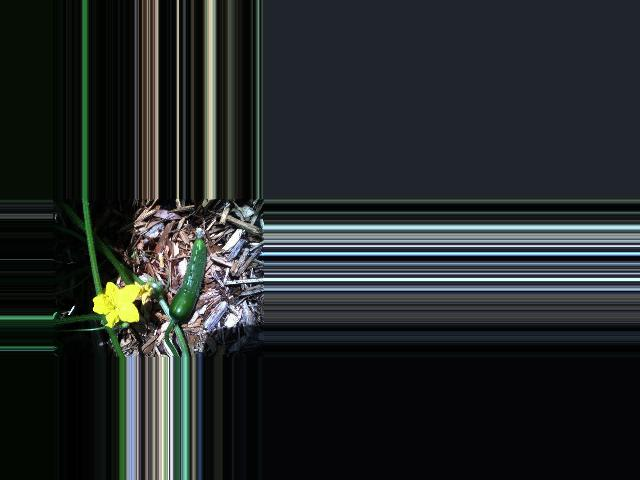cucumber: (168, 230, 207, 322)
